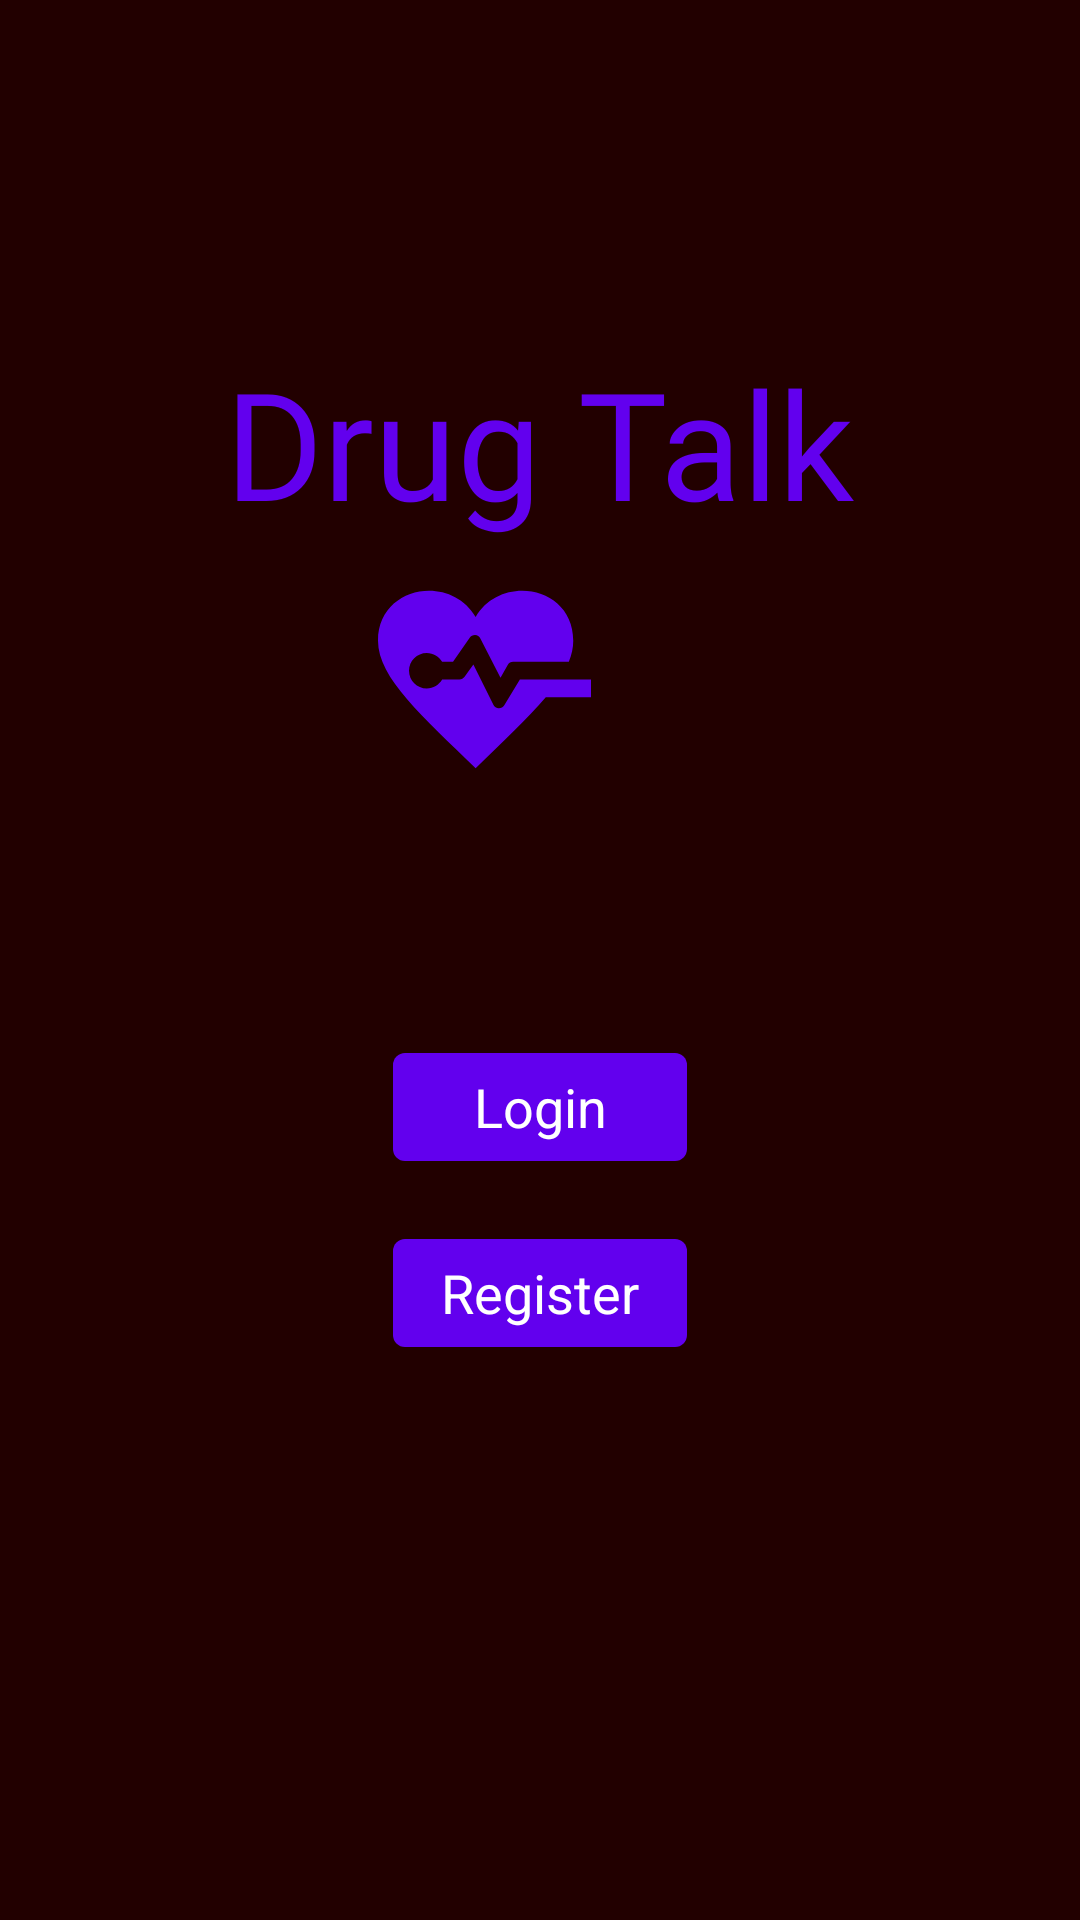

Icons on this 1080px x 1920px Android screen, each with the point to tap as [x,y]:
heart: [484,679]
